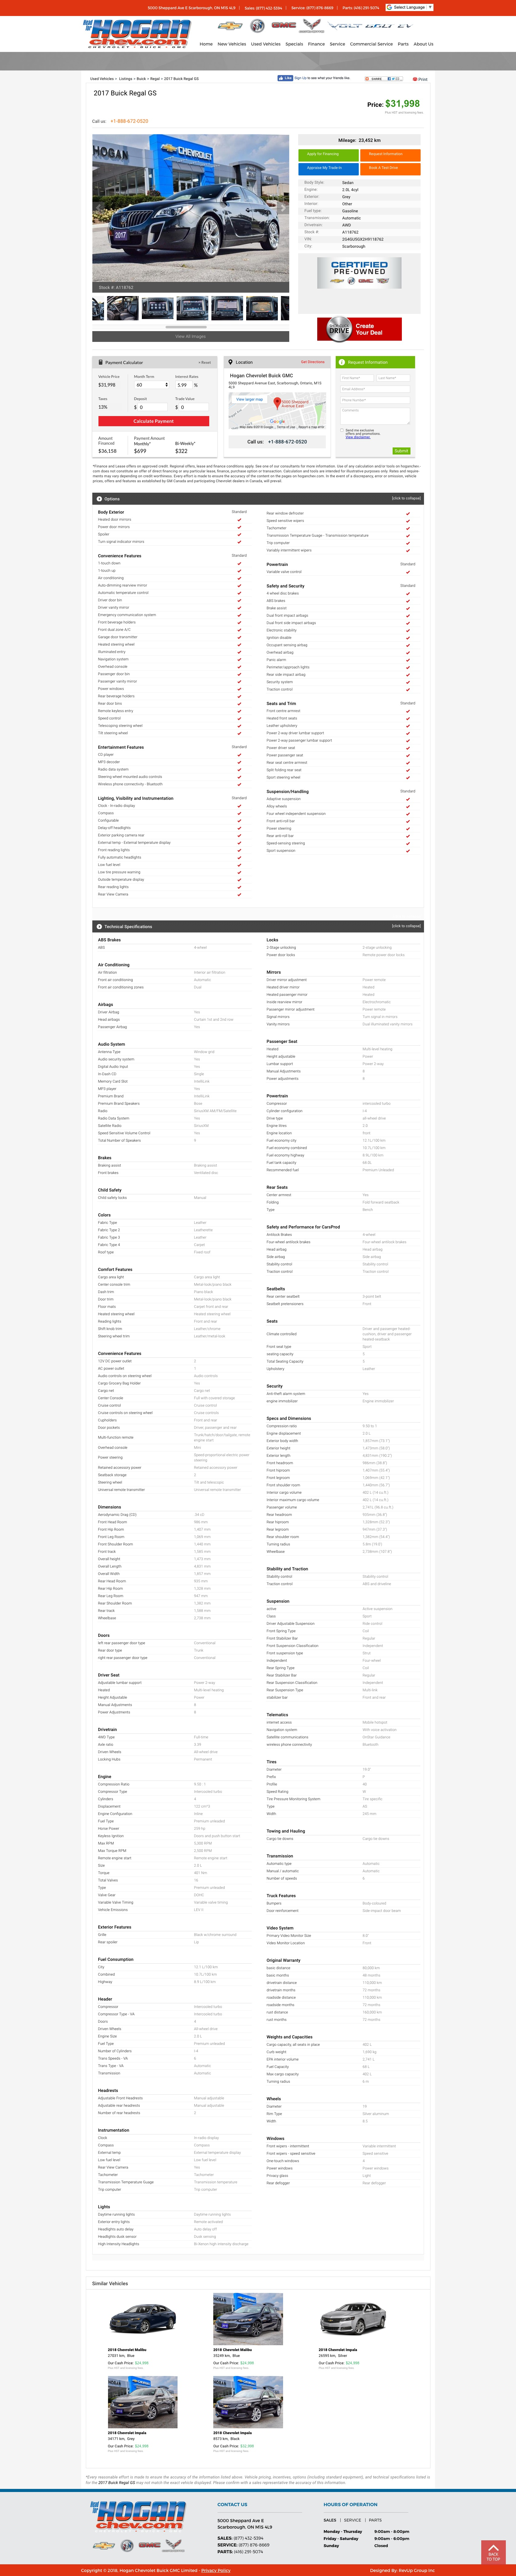car: (281, 205, 286, 212)
